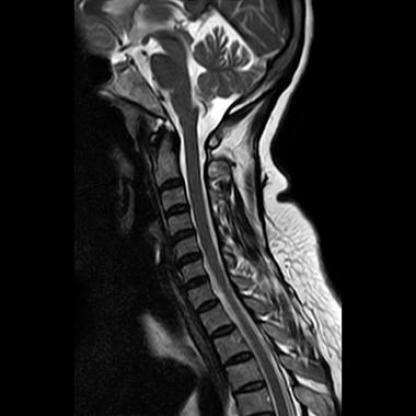Disc Bulgerotation: (182, 274, 210, 293), (174, 252, 203, 270), (169, 228, 196, 245), (156, 178, 183, 194), (162, 202, 190, 216)
Disc Herniationrotation: (195, 299, 221, 316)
